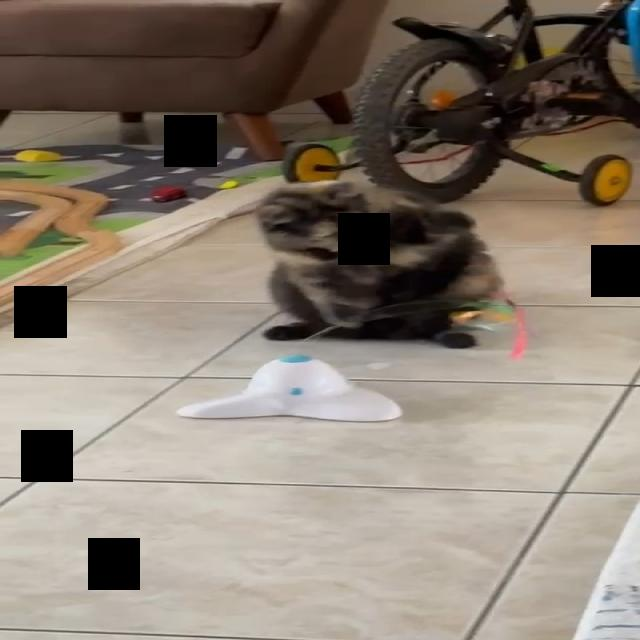authorized: (253, 180, 504, 348)
